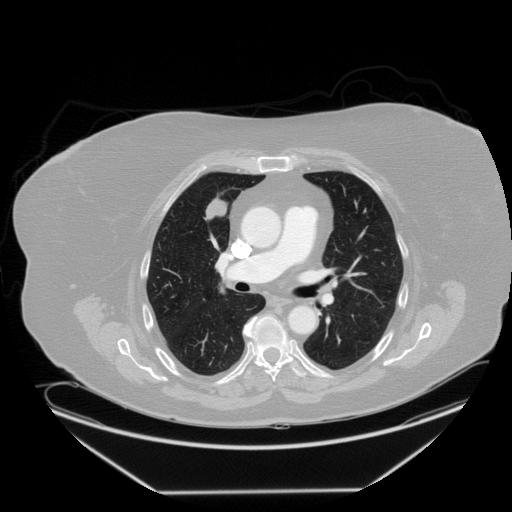nodule: (204, 198, 228, 222)
